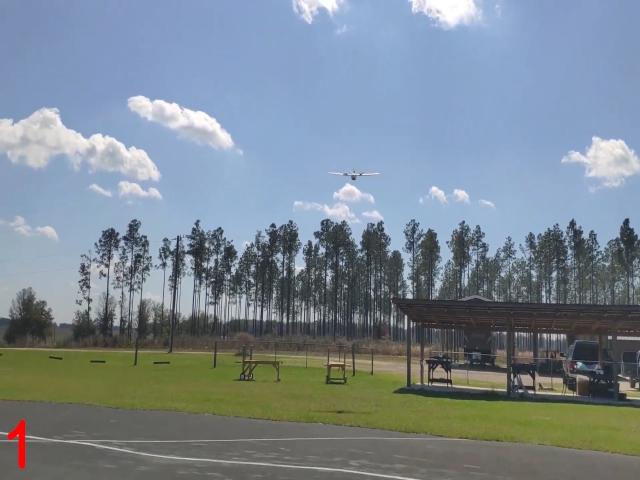plane: (331, 168, 379, 184)
